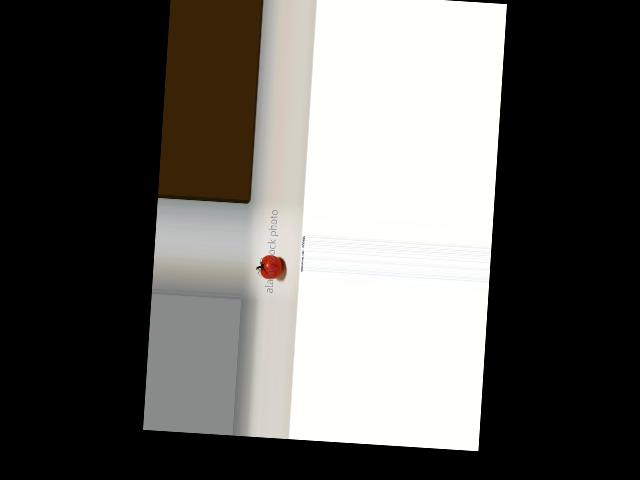tomato: (259, 254, 283, 279)
